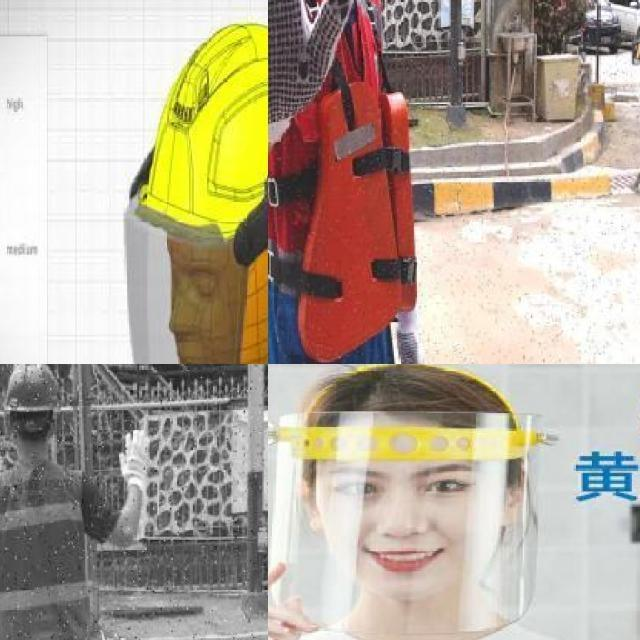apron: (268, 0, 355, 154), (116, 428, 154, 496), (393, 298, 428, 364)
